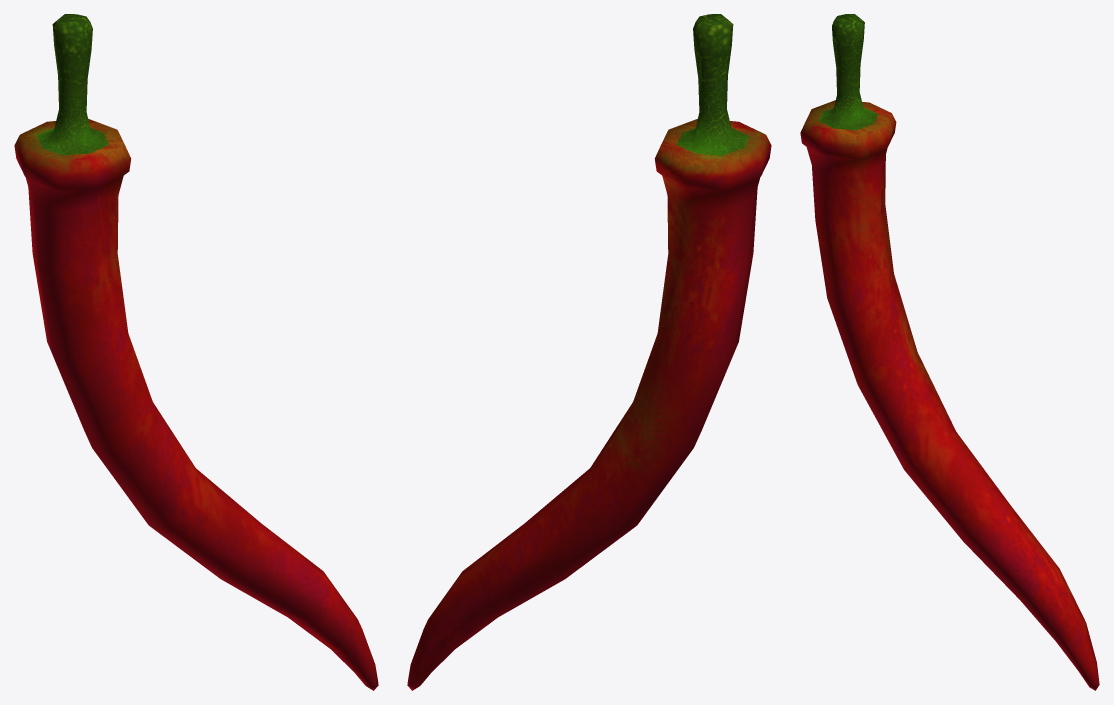
The model's file is chilli.FBX.
The picture shows the model from 3 angles, left to right: view 1: azimuth 30°, elevation 25°; view 2: azimuth 150°, elevation 25°; view 3: azimuth 330°, elevation 25°; orthographic projection. The views are drawn at different scales.
Visible parts, largest first — view 1: Chilli; view 2: Chilli; view 3: Chilli.
Part boxes in pixels (x1,y1,x2,y2): Chilli: (14,14,378,690); Chilli: (407,14,771,690); Chilli: (800,14,1099,690).
Bounding box in the file's own units: 26.95 × 54.1 × 7.51.
